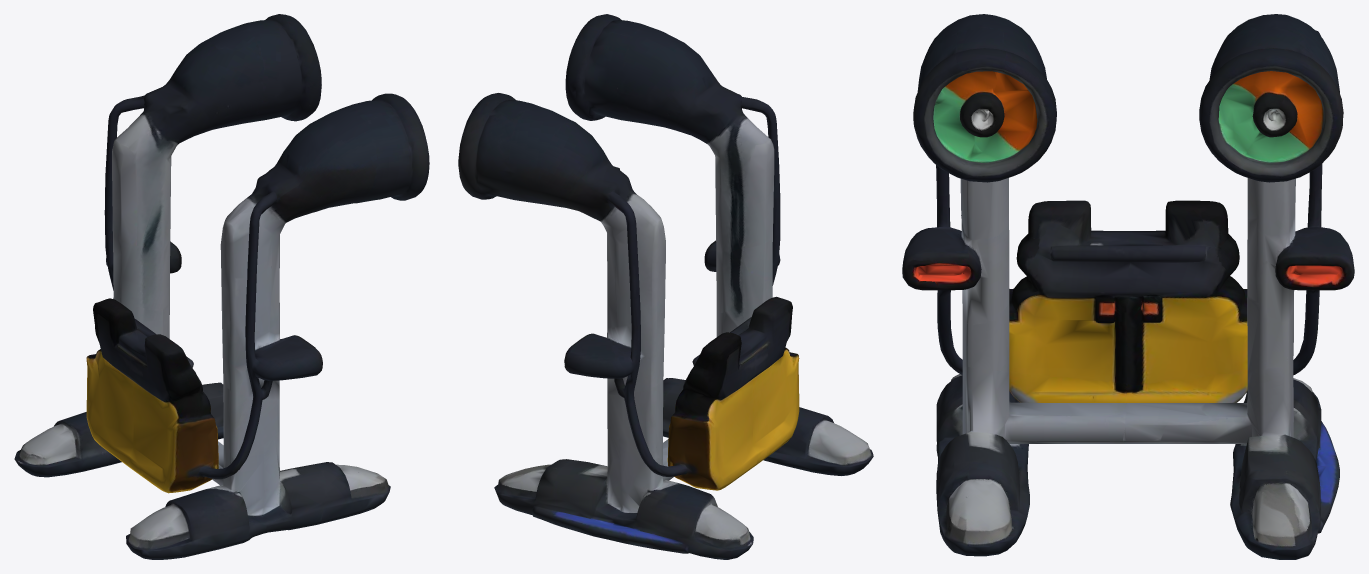
The model's file is cable-machine.glb.
3 views of the same model, side by side, from view 1: azimuth 30°, elevation 25°; view 2: azimuth 150°, elevation 25°; view 3: azimuth 270°, elevation 25° (orthographic). The views are drawn at different scales.
Visible parts, largest first — view 1: tripo_node_b6ebc7ce-414f-406f-a74f-ef01ba573fac; view 2: tripo_node_b6ebc7ce-414f-406f-a74f-ef01ba573fac; view 3: tripo_node_b6ebc7ce-414f-406f-a74f-ef01ba573fac.
Boxes of the visible parts, bbox=[...] form: tripo_node_b6ebc7ce-414f-406f-a74f-ef01ba573fac: bbox=[14, 14, 429, 559]; tripo_node_b6ebc7ce-414f-406f-a74f-ef01ba573fac: bbox=[458, 14, 873, 559]; tripo_node_b6ebc7ce-414f-406f-a74f-ef01ba573fac: bbox=[902, 14, 1354, 559].
Bounding box in the file's own units: 0.7385 × 0.9999 × 0.7817.
Materials: 1 (1 with a texture image).
